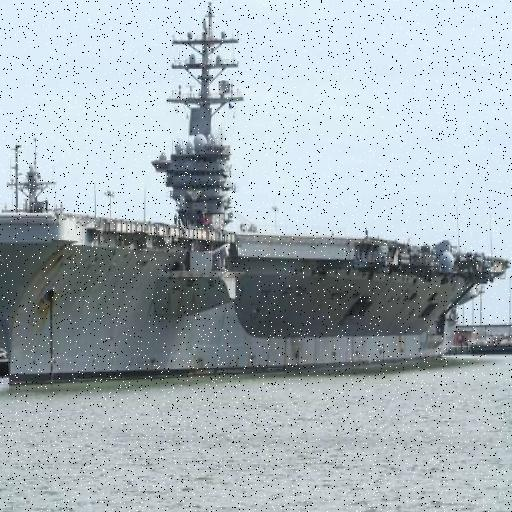Portanaves: (1, 1, 512, 390)
